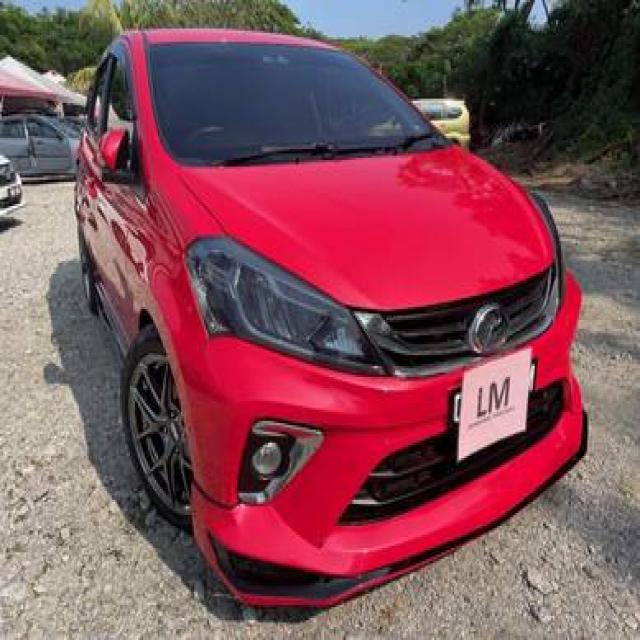PeroduaMyvi: (70, 21, 590, 612)
